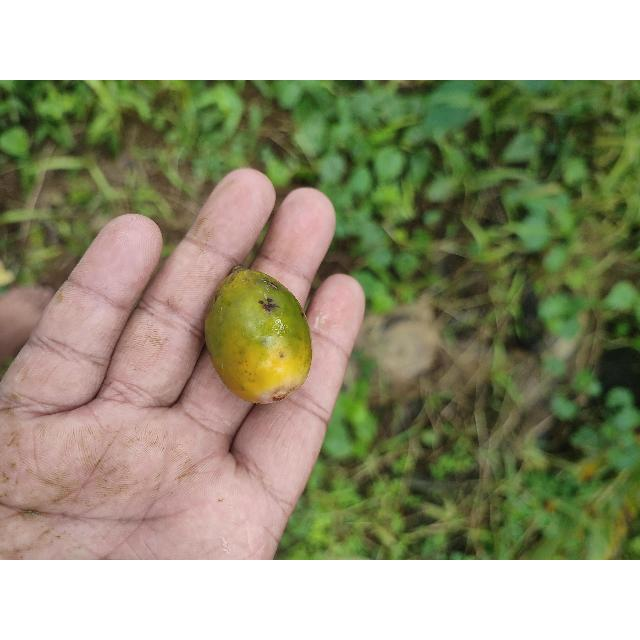good: (202, 269, 313, 405)
